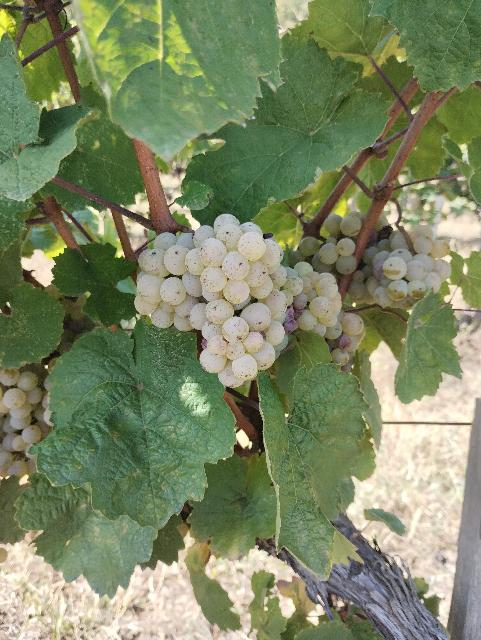grapes: (135, 214, 308, 389), (312, 211, 452, 310)
